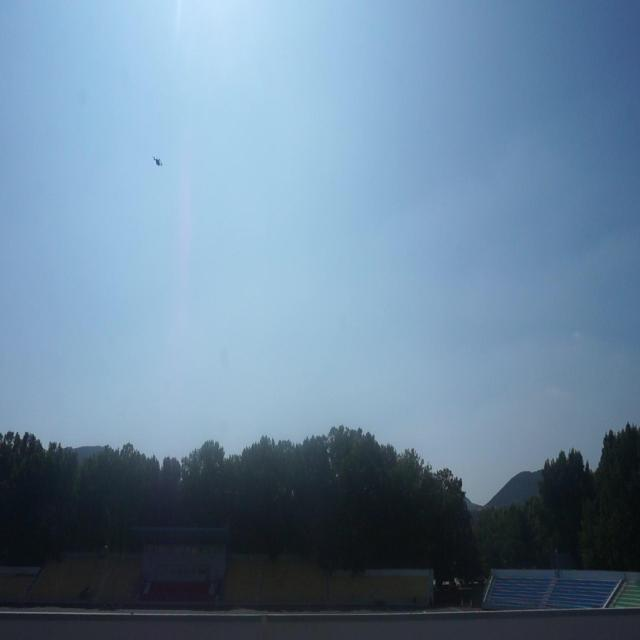drone: (152, 154, 163, 170)
